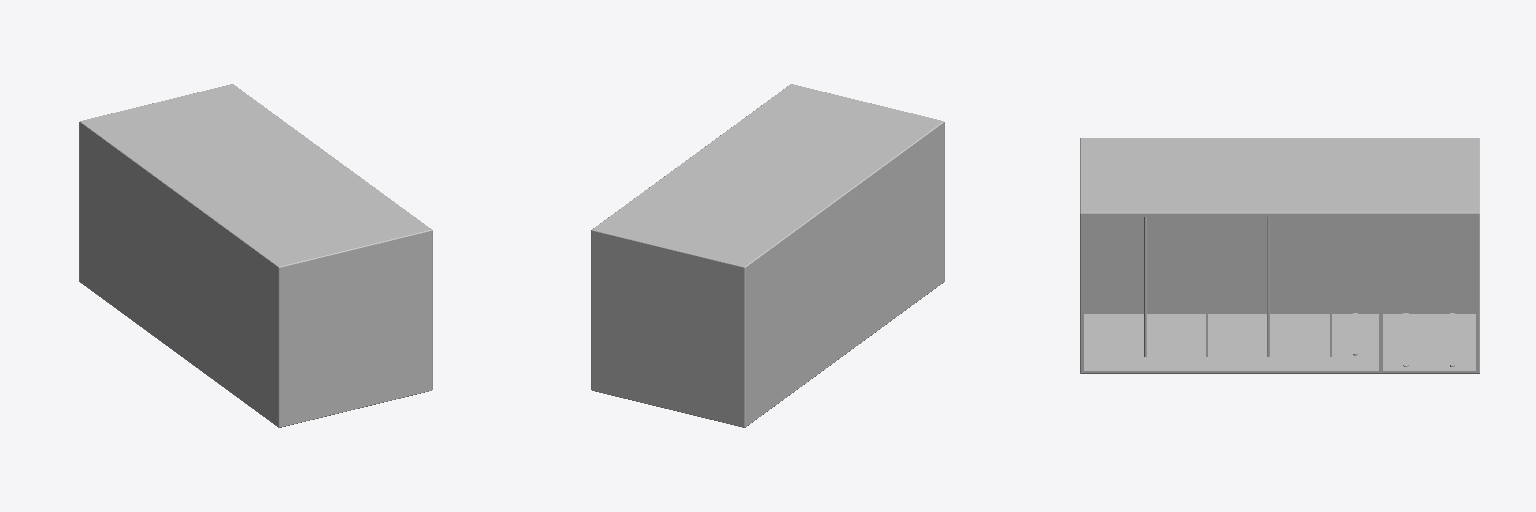
Rendered from none_motion.obj.
3 views of the same model, side by side, from view 1: azimuth 30°, elevation 25°; view 2: azimuth 150°, elevation 25°; view 3: azimuth 270°, elevation 25° (orthographic).
Visible parts, largest first — view 1: rootd_$$001_g36__Geometry_0; view 2: rootd_$$001_g36__Geometry_0, rootd_$$001_g32__Geometry_0; view 3: rootd_$$001_g32__Geometry_0, rootd_$$001_g36__Geometry_0, rootd_$$001_g34__Geometry_0.
Boxes of the visible parts, x1=… form: rootd_$$001_g36__Geometry_0: x1=80, y1=84, x2=432, y2=427; rootd_$$001_g36__Geometry_0: x1=592, y1=84, x2=944, y2=426; rootd_$$001_g32__Geometry_0: x1=591, y1=230, x2=745, y2=427; rootd_$$001_g32__Geometry_0: x1=1081, y1=138, x2=1479, y2=373; rootd_$$001_g36__Geometry_0: x1=1080, y1=138, x2=1478, y2=373; rootd_$$001_g34__Geometry_0: x1=1084, y1=217, x2=1378, y2=355.
Size of the model in its own units: 0.4452 by 0.4452 by 1.